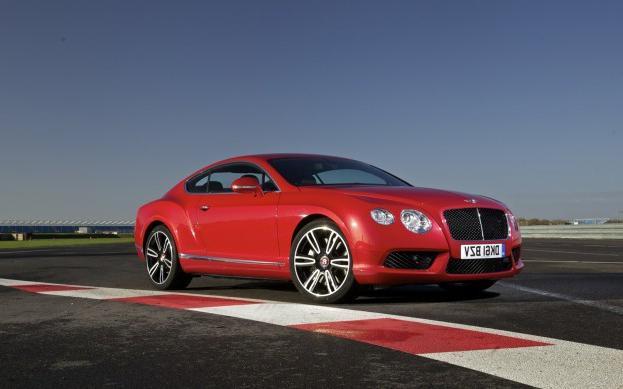Car: (123, 141, 534, 305)
